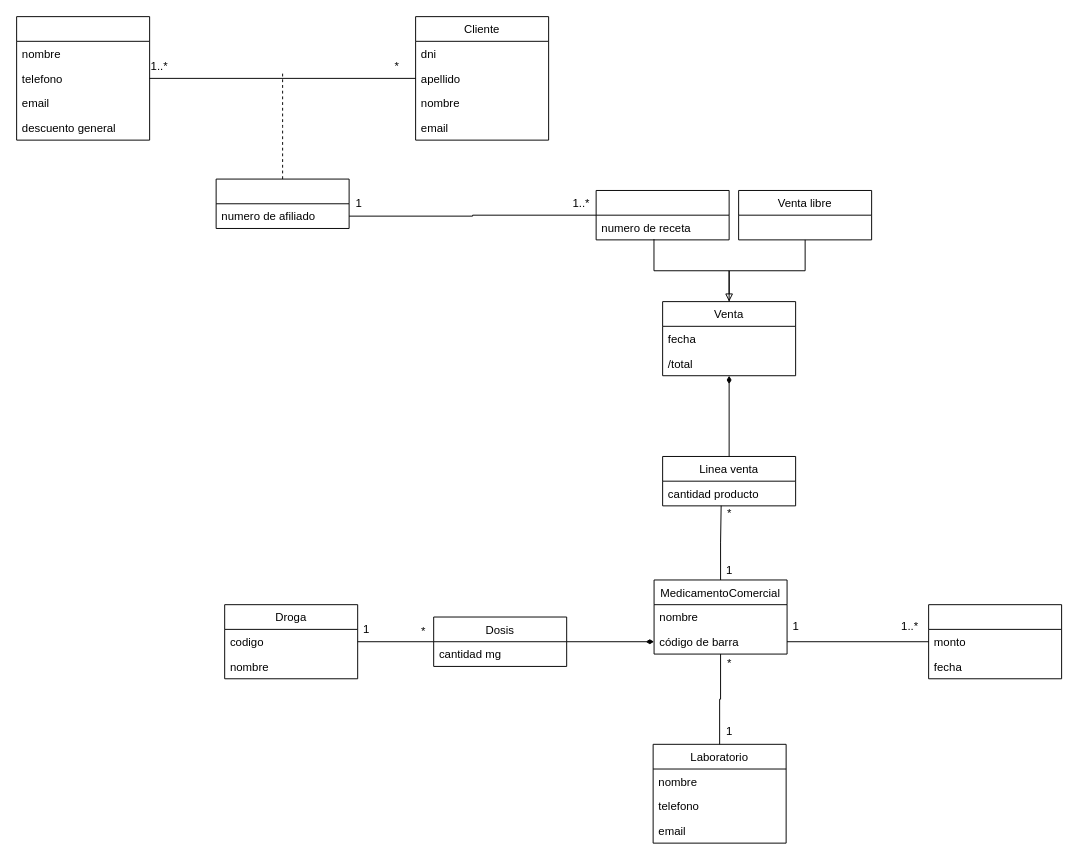
This 1078x863 diagram has some shape labels left out. Here are the shapes that lost their labels. From the top down, the box of each, then its label:
(16, 16, 150, 140): Obra social
(215, 178, 349, 228): Afiliacion
(595, 190, 729, 240): Venta por obra social
(928, 604, 1062, 679): Precio
